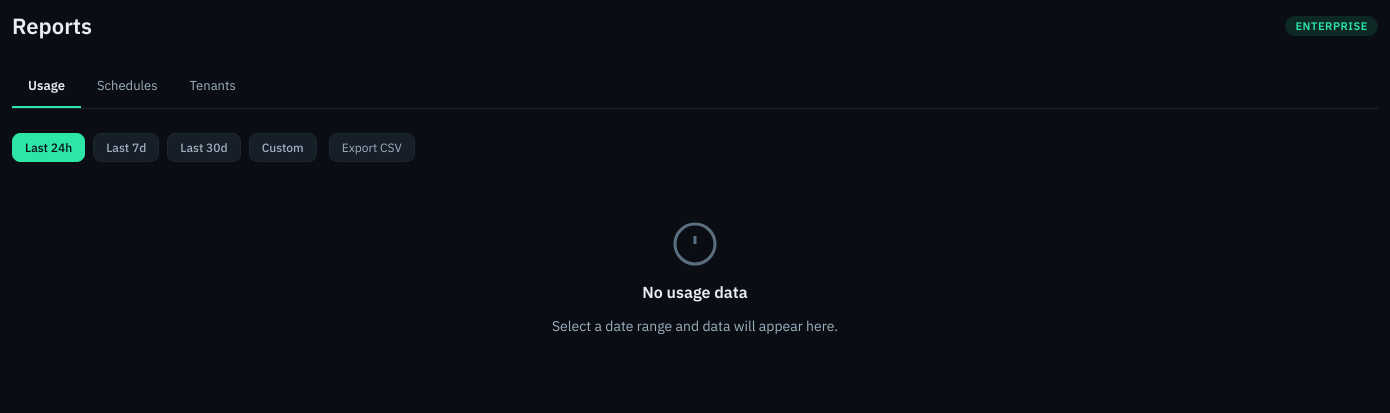
Test: ReportsPage tenants tab › renders tenant list after clicking tenants tab
This screenshot has width=1390, height=413.
Click the tab "Tenants" at (213, 86), box [174,64,252,108]
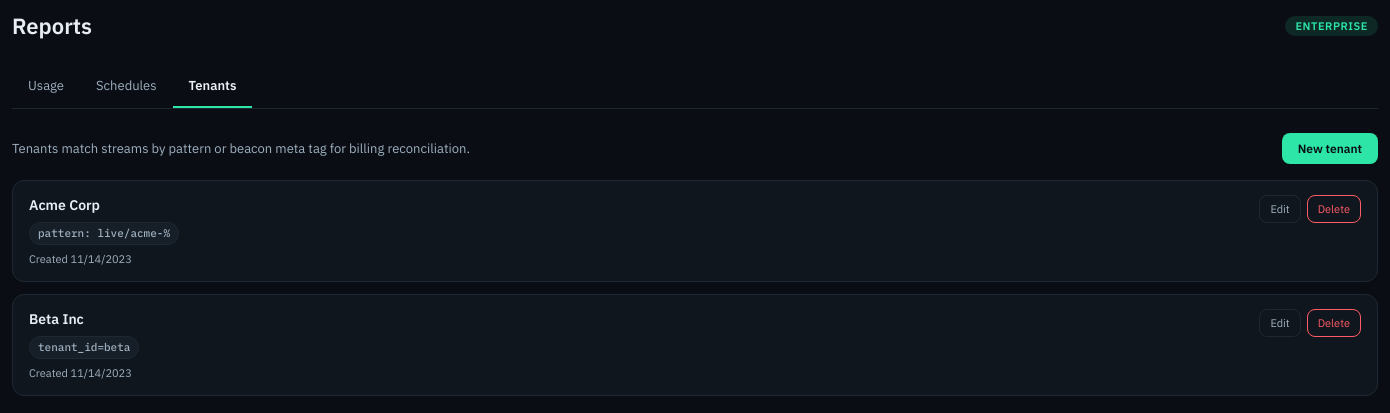
Result: the text "Acme Corp" is shown at [29,196,100,214]
Result: the text "Beta Inc" is shown at [29,310,84,328]
